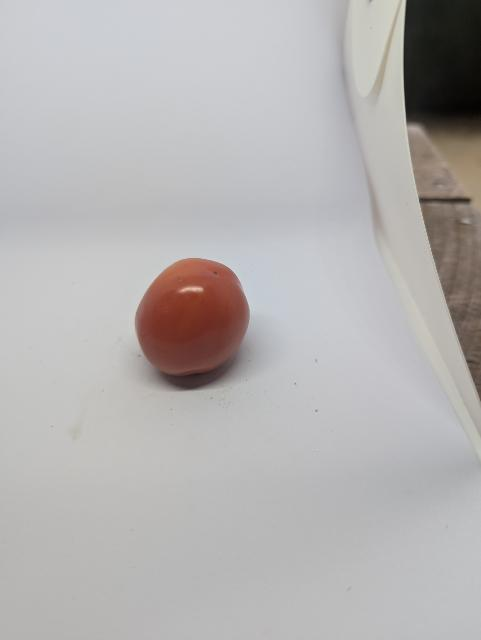red: (133, 254, 252, 384)
